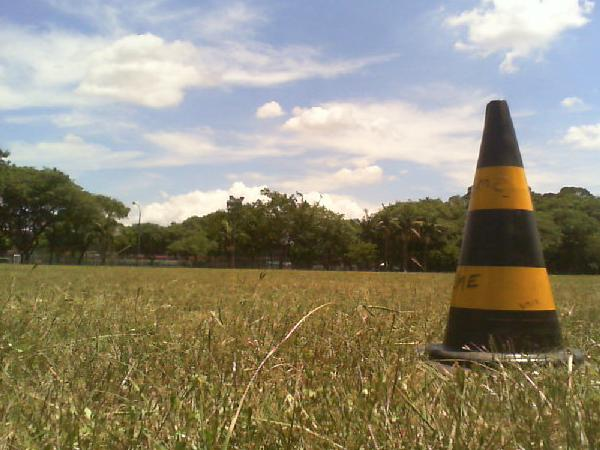0 cone: (421, 101, 586, 370)
